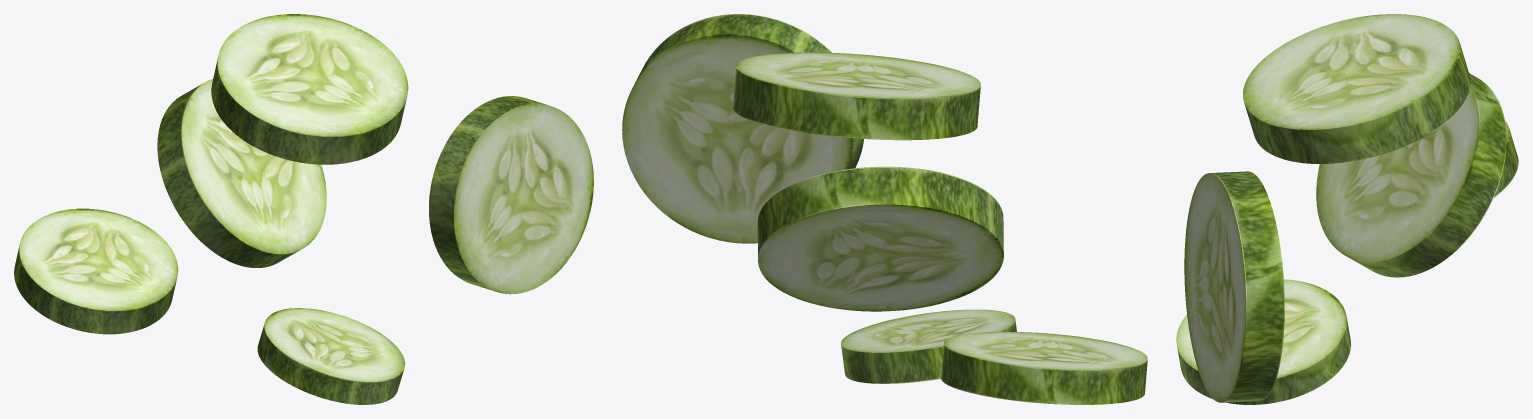
File: pickles.glb
The picture shows the model from 3 angles, left to right: view 1: azimuth 30°, elevation 25°; view 2: azimuth 150°, elevation 25°; view 3: azimuth 270°, elevation 25°; orthographic projection. The views are drawn at different scales.
Parts seen in each view (by area): view 1: Object_13, Object_5, Object_7, Object_9, Object_11; view 2: Object_13, Object_7, Object_5, Object_9, Object_11; view 3: Object_5, Object_7, Object_13, Object_11, Object_9.
Part boxes in pixels (x1=…): Object_13: x1=429, y1=96, x2=593, y2=294; Object_5: x1=211, y1=14, x2=408, y2=164; Object_7: x1=157, y1=79, x2=326, y2=267; Object_9: x1=14, y1=208, x2=178, y2=334; Object_11: x1=257, y1=308, x2=405, y2=404; Object_13: x1=622, y1=14, x2=863, y2=243; Object_7: x1=757, y1=166, x2=1003, y2=311; Object_5: x1=733, y1=52, x2=980, y2=140; Object_9: x1=941, y1=331, x2=1147, y2=404; Object_11: x1=841, y1=309, x2=1016, y2=383; Object_5: x1=1243, y1=14, x2=1470, y2=163; Object_7: x1=1316, y1=73, x2=1506, y2=277; Object_13: x1=1184, y1=171, x2=1284, y2=402; Object_11: x1=1176, y1=279, x2=1350, y2=404; Object_9: x1=1493, y1=121, x2=1518, y2=197.
Bounding box in the file's own units: 2.23 × 1.3 × 1.18.
Materials: 3 (3 with a texture image).
